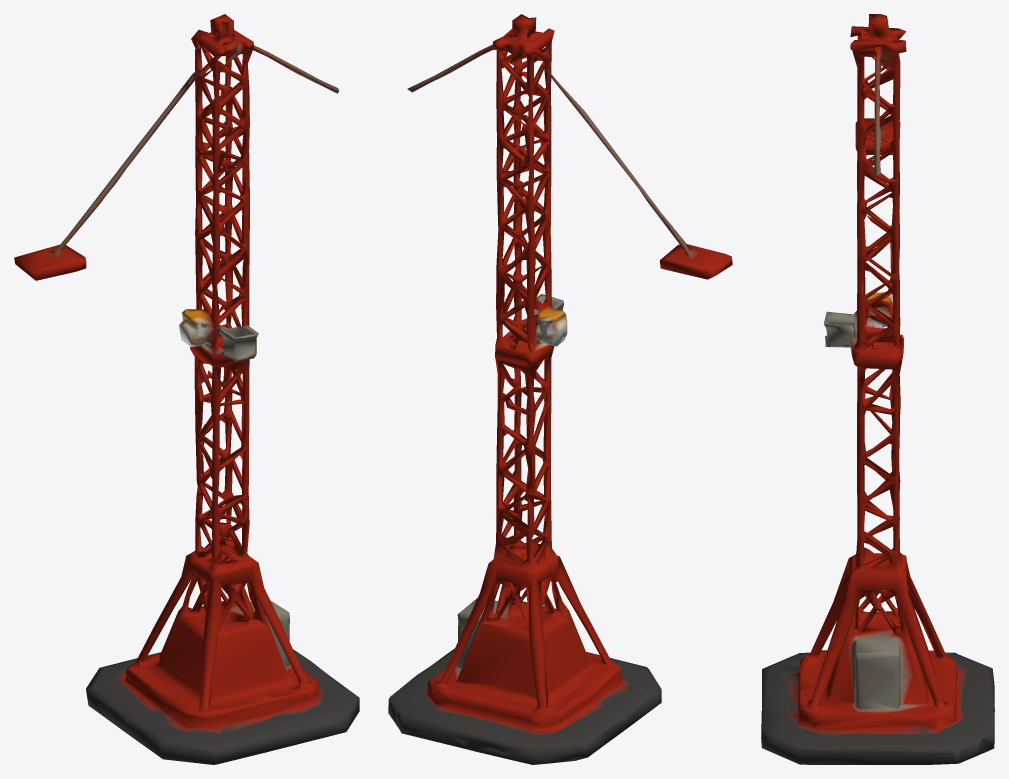
File: gen3d-harbor-crane-lod0.glb
3 views of the same model, side by side, from view 1: azimuth 30°, elevation 25°; view 2: azimuth 150°, elevation 25°; view 3: azimuth 270°, elevation 25° (orthographic).
Visible parts, largest first — view 1: part_0; view 2: part_0; view 3: part_0.
Part boxes in pixels (bbox=[...]): part_0: bbox=[14, 14, 359, 764]; part_0: bbox=[388, 14, 732, 764]; part_0: bbox=[761, 14, 994, 764].
Bounding box in the file's own units: 0.4786 × 0.9998 × 0.3025.
